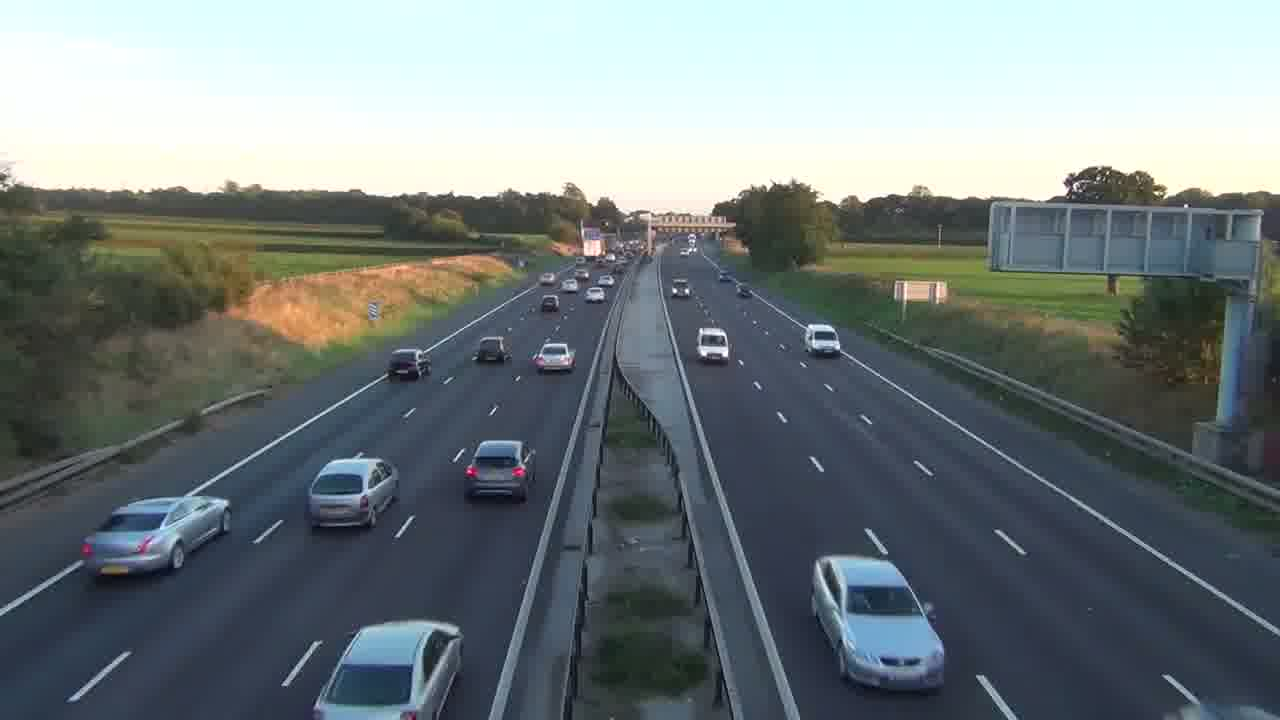car: (811, 553, 946, 692), (312, 618, 464, 719), (79, 494, 232, 581), (305, 456, 400, 529), (463, 439, 537, 502), (529, 341, 577, 373), (385, 348, 431, 381), (473, 336, 509, 363), (541, 293, 561, 312)
